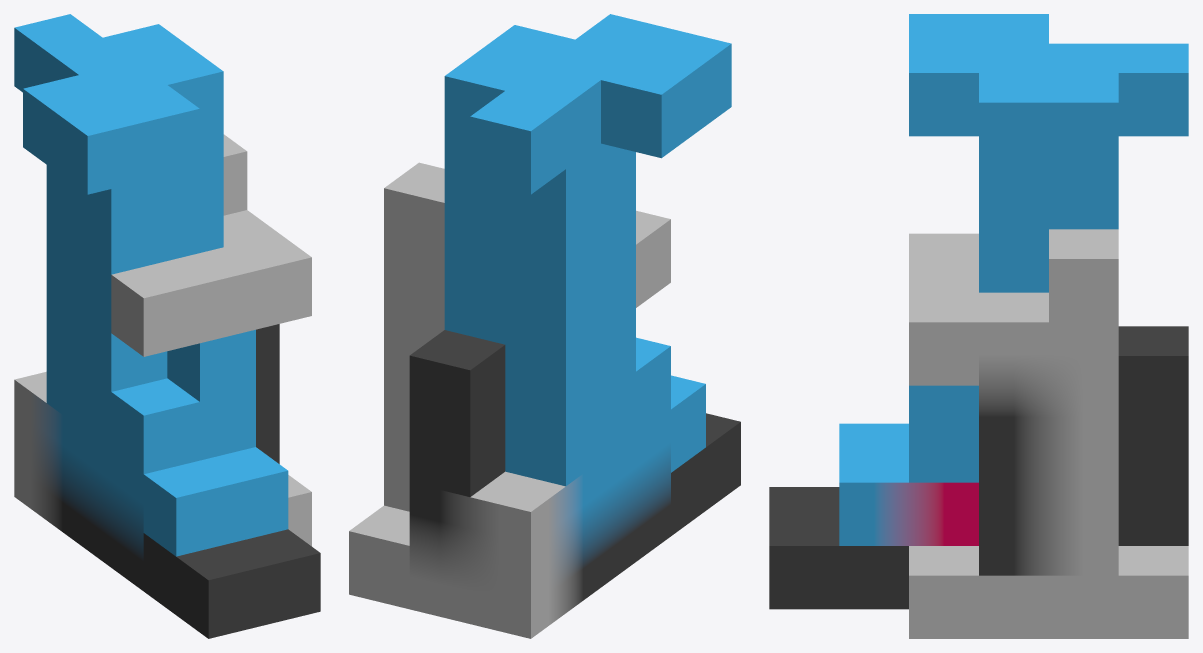
The model's file is Bc_Leg.dae.
3 renders of one model, left to right at view 1: azimuth 30°, elevation 25°; view 2: azimuth 150°, elevation 25°; view 3: azimuth 270°, elevation 25°, orthographic. The views are drawn at different scales.
Parts seen in each view (by area): view 1: Matrix; view 2: Matrix; view 3: Matrix.
Boxes of the visible parts, bbox=[...] form: Matrix: bbox=[14, 14, 320, 638]; Matrix: bbox=[349, 14, 740, 638]; Matrix: bbox=[769, 14, 1188, 638].
Size of the model in its own units: 4 by 8 by 6.
